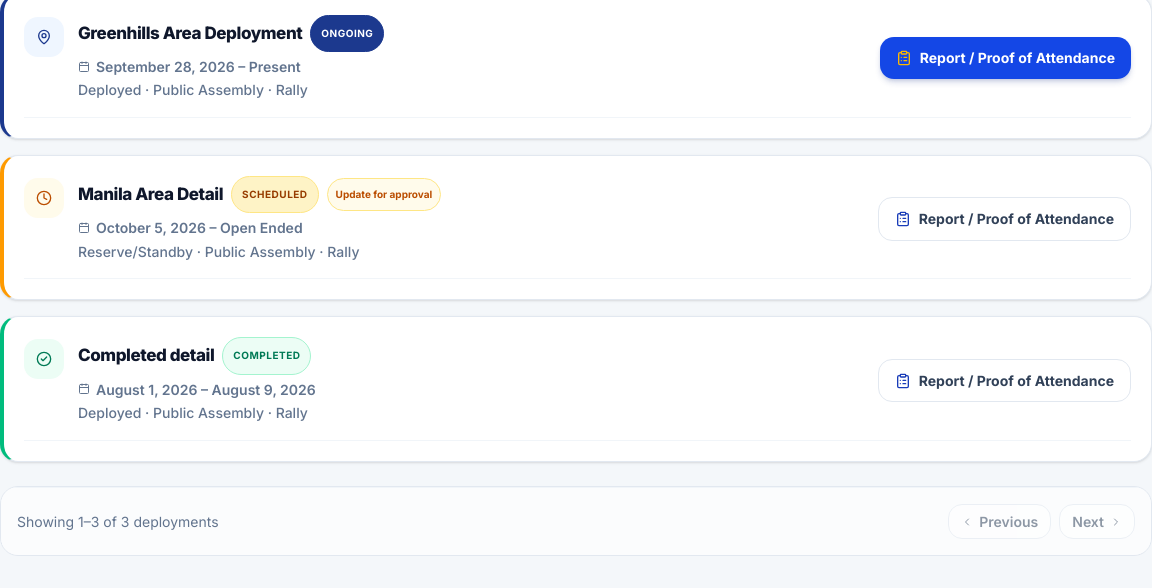
EmployeeDeploymentList › sends a Completed update once proof exists, and shows a pending update instead of buttons
Step 1. Click the button "Report / Proof of Attendance" in the row of "Greenhills Area Deployment" → (1005, 58), box left=880, top=37, right=1131, bottom=79
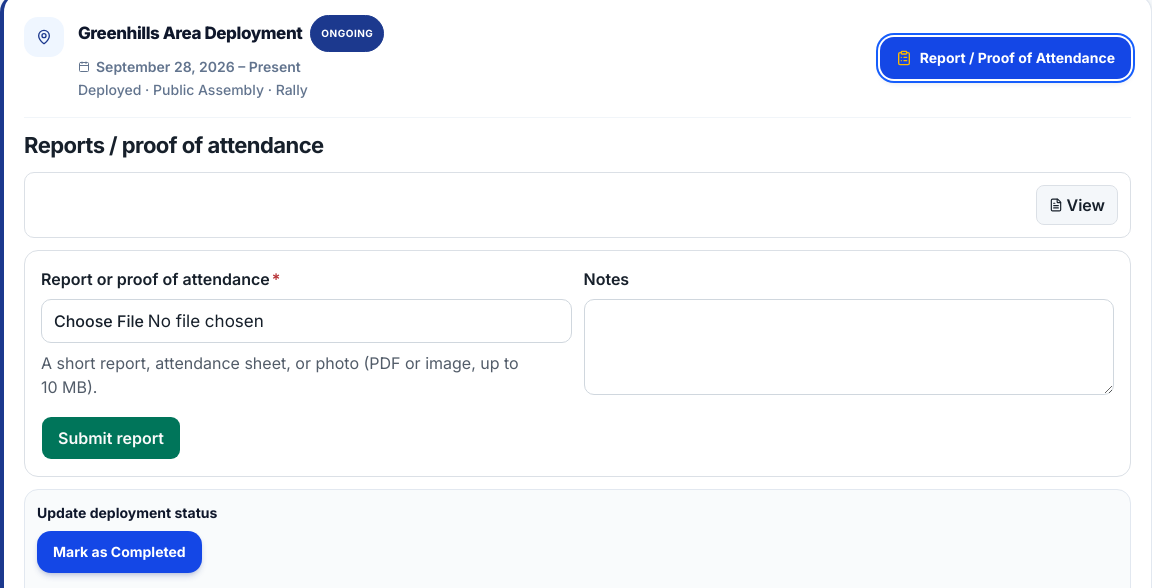
Step 2. Click the button "Mark as Completed" → (119, 552), box left=37, top=531, right=202, bottom=573
(page scrolled)
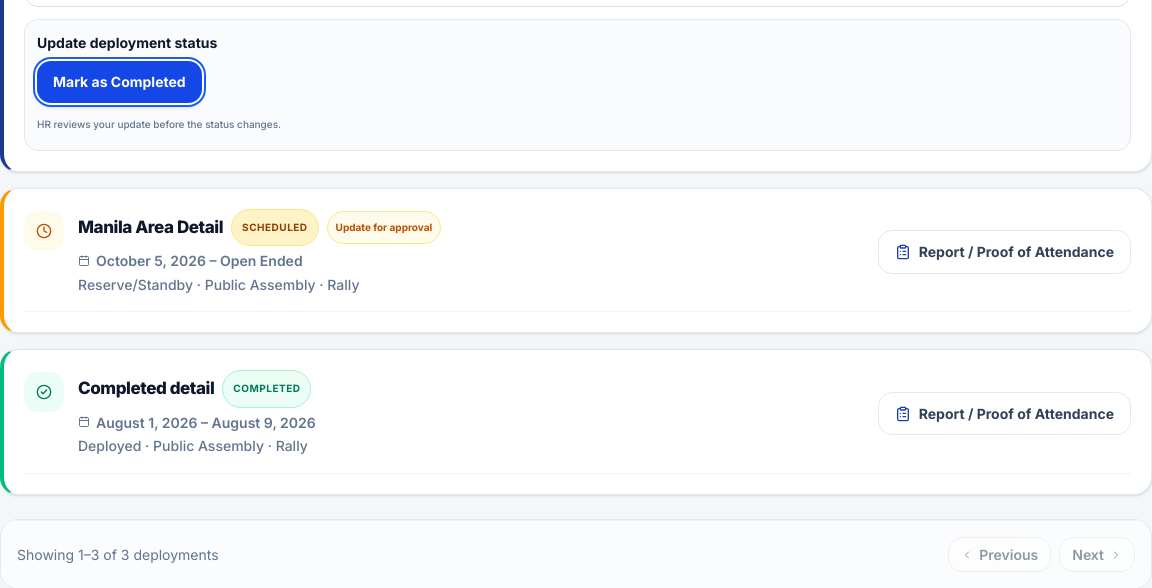
Step 3. Click the button "Report / Proof of Attendance" in the row of "Update for approval" → (1004, 252), box left=878, top=230, right=1131, bottom=274
(page scrolled)
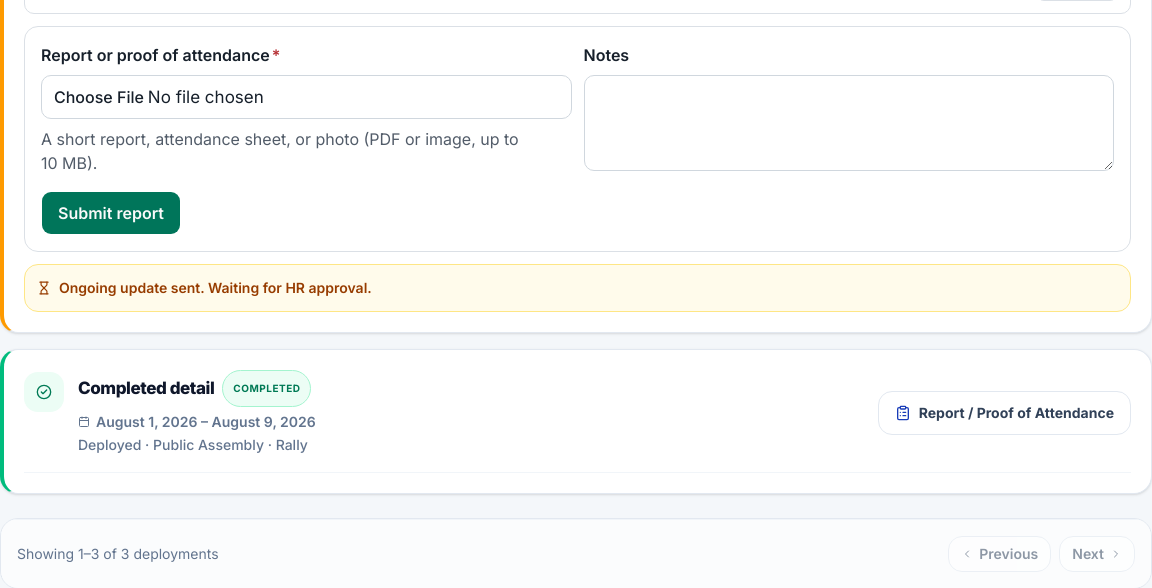
Expected: the text "Ongoing update sent. Waiting for HR approval." is shown, left=59, top=277, right=372, bottom=299
